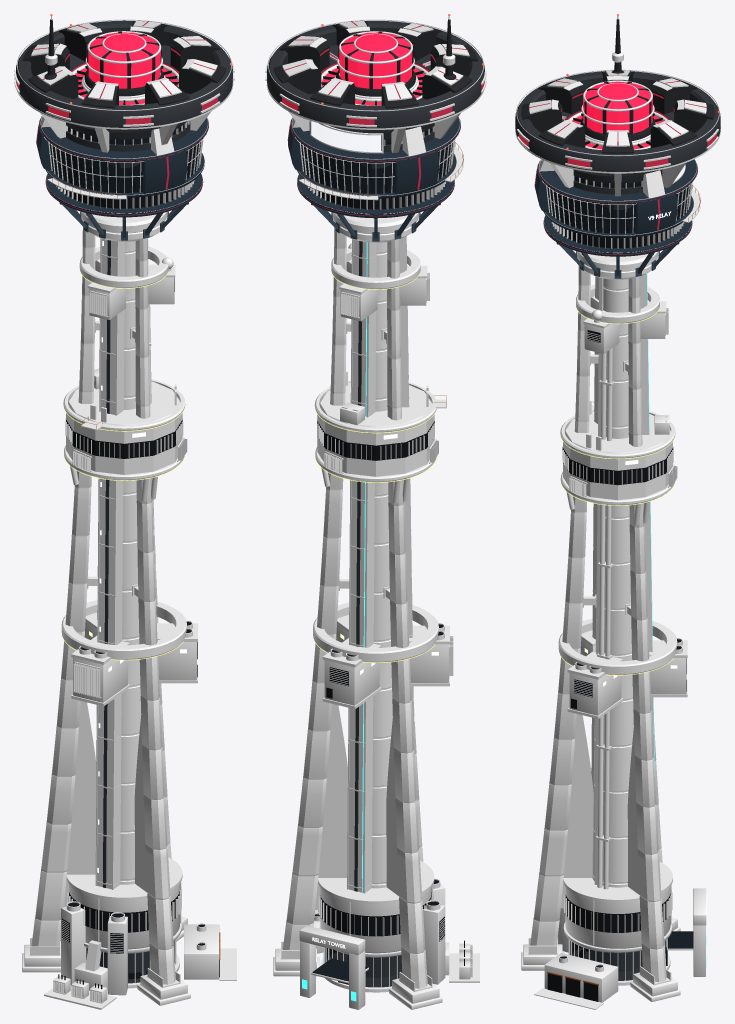
File: telecom_tower.gltf
3 renders of one model, left to right at view 1: azimuth 30°, elevation 25°; view 2: azimuth 150°, elevation 25°; view 3: azimuth 270°, elevation 25°, orthographic. The views are drawn at different scales.
Parts seen in each view (by area): view 1: concrete, mech, steel, panel, deck, graphite, glass, dark, chamber, shell, halo, strut (+1 smaller); view 2: concrete, mech, steel, panel, glass, graphite, deck, dark, chamber, shell, halo, ad (+3 smaller); view 3: concrete, mech, steel, panel, graphite, deck, dark, glass, chamber, shell, halo, strut (+1 smaller).
Part boxes in pixels (x1,y1,x2,y2): concrete: (22,211,236,1009); mech: (14,26,234,1003); steel: (29,16,217,1003); panel: (16,20,232,151); deck: (36,116,208,217); graphite: (22,19,226,108); glass: (49,121,201,983); dark: (62,65,219,977); chamber: (88,32,160,88); shell: (16,19,231,213); halo: (16,21,217,215); strut: (59,202,188,240); concrete: (273,212,479,1009); mech: (265,26,486,979); steel: (280,16,470,991); panel: (267,21,484,151); glass: (301,127,452,987); graphite: (273,19,478,108); deck: (288,117,460,218); dark: (314,66,444,984); chamber: (339,32,412,88); shell: (268,19,483,214); halo: (282,21,484,216); ad: (311,121,381,151); concrete: (521,251,706,1009); mech: (515,52,720,971); steel: (528,16,706,985); panel: (515,71,720,194); graphite: (521,19,714,153); deck: (535,159,697,256); dark: (547,113,686,1001); glass: (547,176,693,980); chamber: (583,81,652,133); shell: (516,69,719,253); halo: (519,73,716,254); strut: (556,242,679,278).
Size of the model in its own units: 51.03 by 242 by 49.4.
